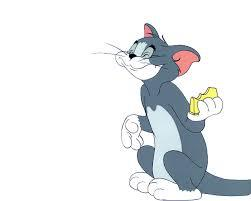tom: (110, 22, 249, 201)
